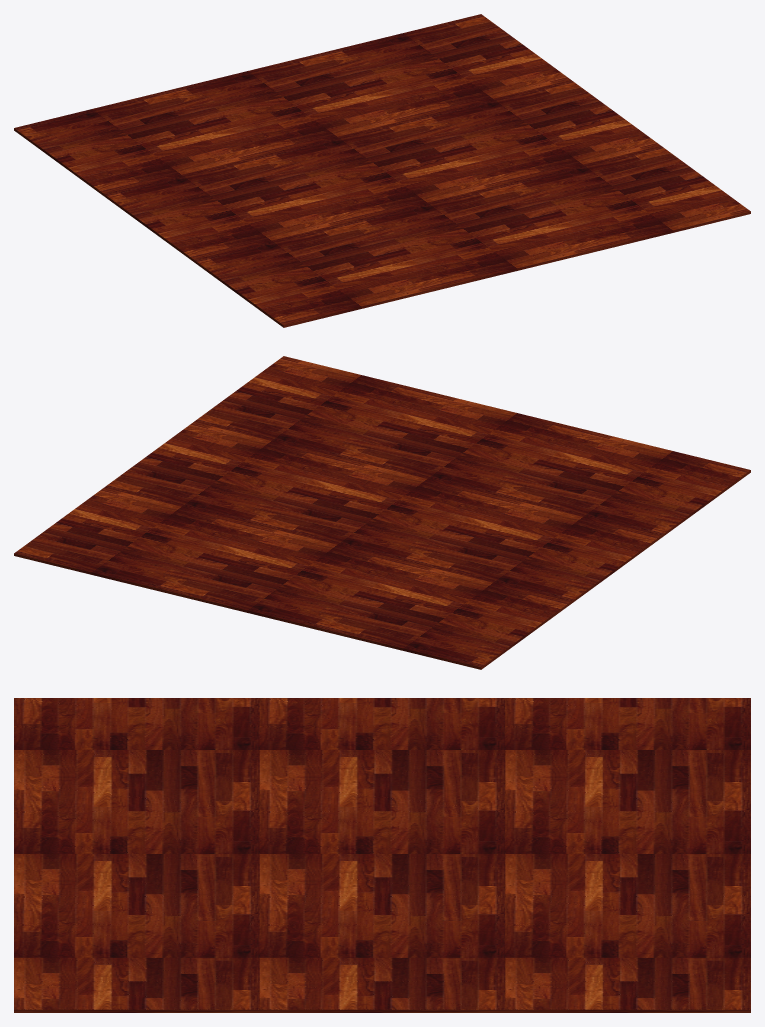
File: TheaterPlatform.fbx
3 views of the same model, one above another, from view 1: azimuth 30°, elevation 25°; view 2: azimuth 150°, elevation 25°; view 3: azimuth 270°, elevation 25° (orthographic). The views are drawn at different scales.
Parts seen in each view (by area): view 1: pCube7; view 2: pCube7; view 3: pCube7.
Part boxes in pixels (x1,y1,x2,y2): pCube7: (14,14,750,327); pCube7: (14,356,750,669); pCube7: (14,698,750,1012).
Bounding box in the file's own units: 4000 × 20 × 4000.
Materials: 1 (1 with a texture image).
